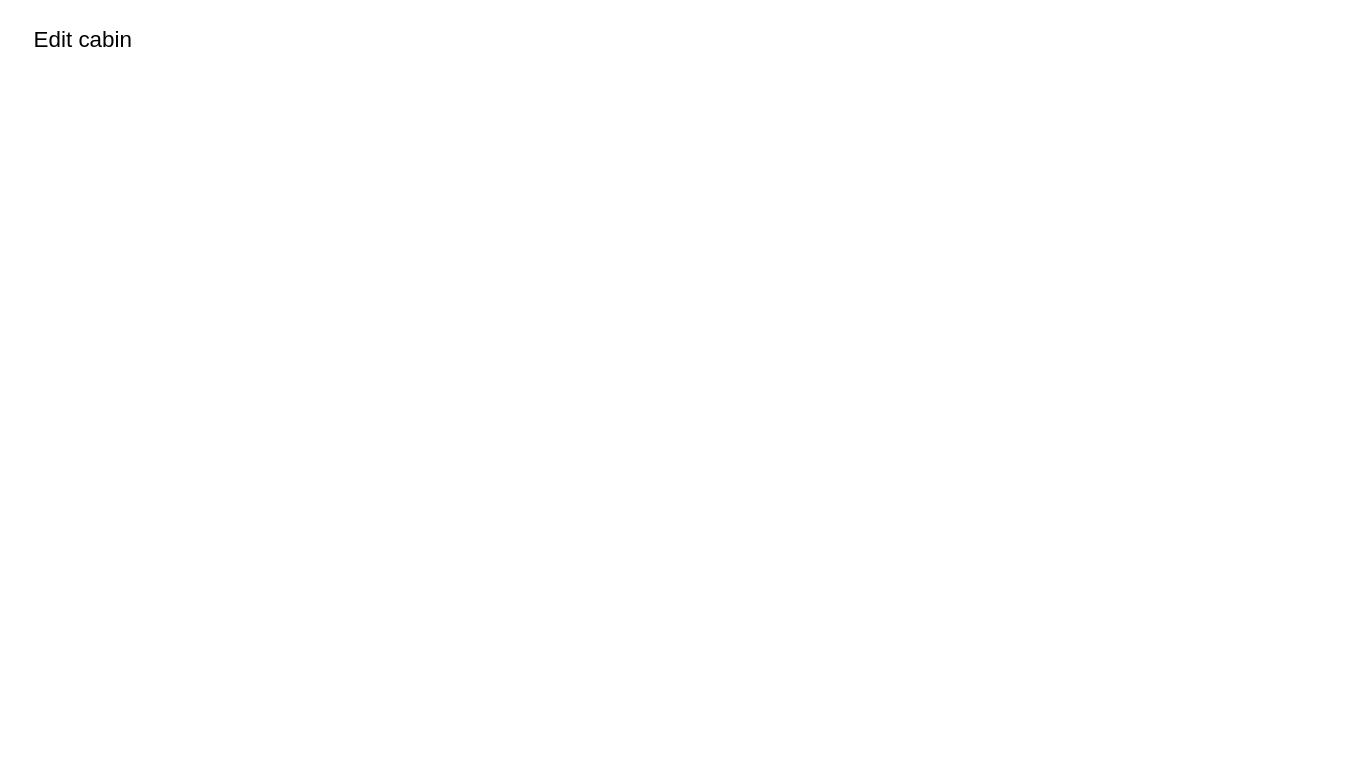
Test case: opens and closes a labeled modal with Escape
The width and height of the screenshot is (1366, 768).
Click the button "Edit cabin". click: (83, 40)
box: [8,8,158,72]
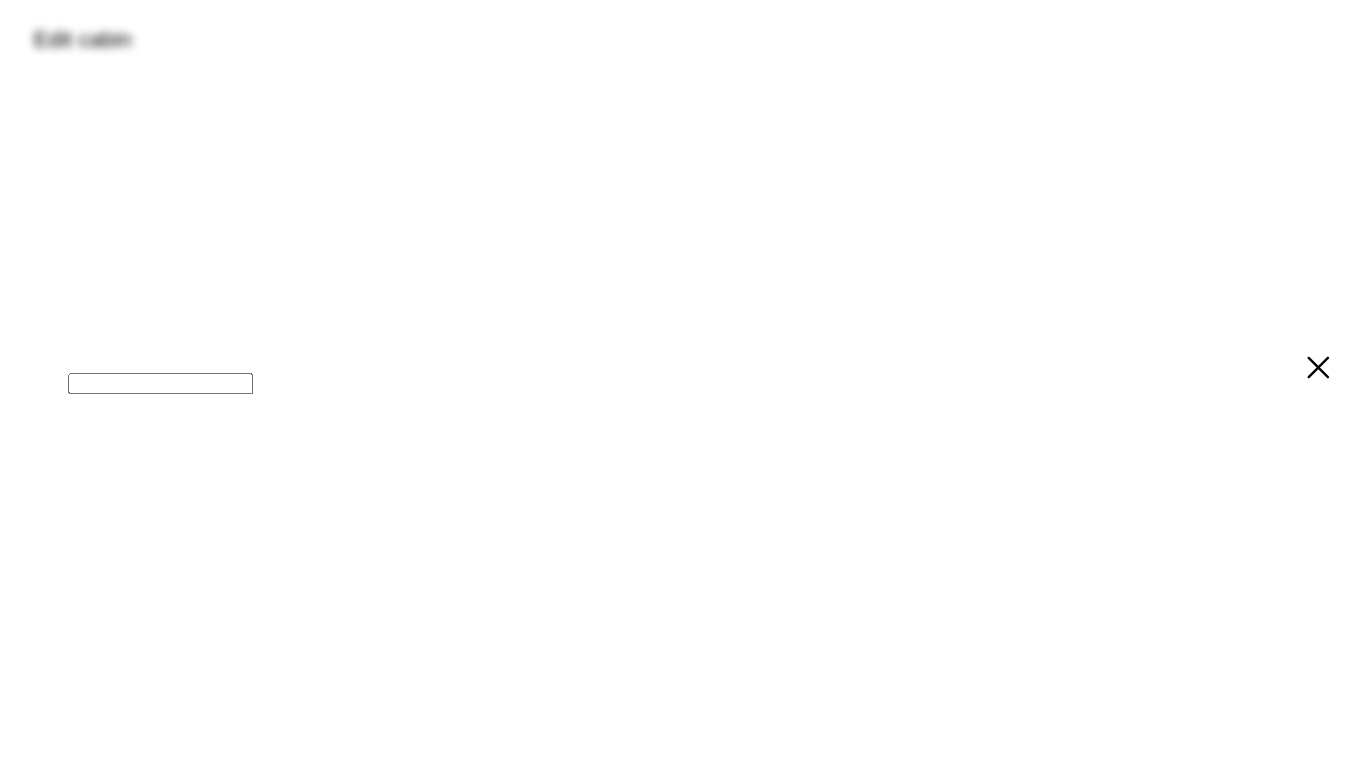
Press Escape
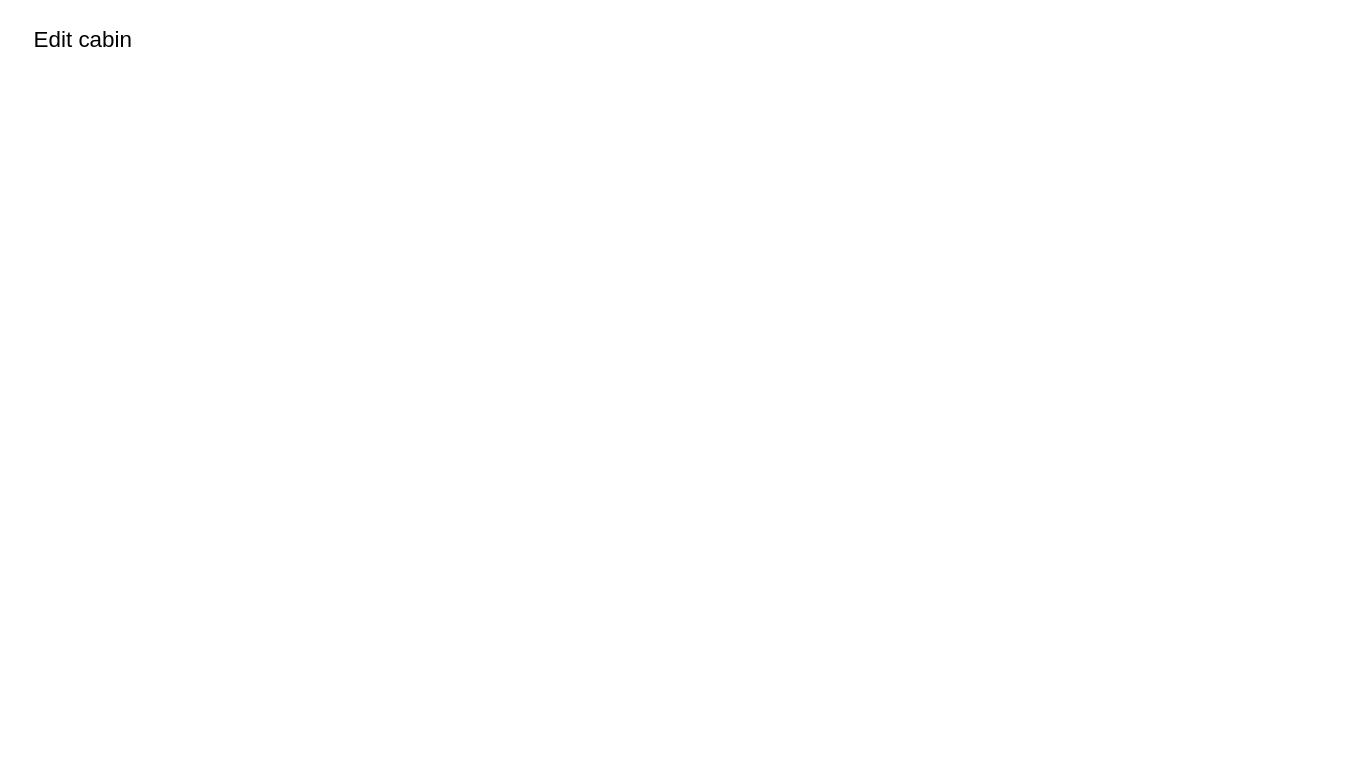
Now the dialog is gone
